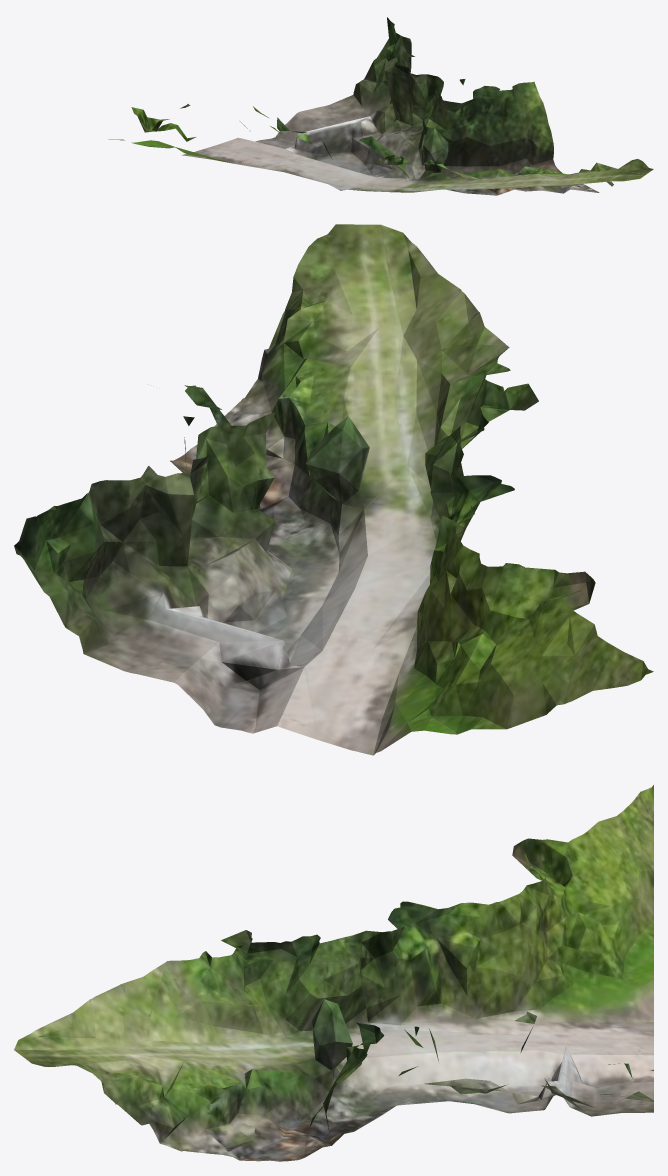
3 views of the same model, one above another, from view 1: azimuth 30°, elevation 25°; view 2: azimuth 150°, elevation 25°; view 3: azimuth 270°, elevation 25° (orthographic). The views are drawn at different scales.
Size of the model in its own units: 51.38 by 11.37 by 49.76.
Materials: 2 (2 with a texture image).
